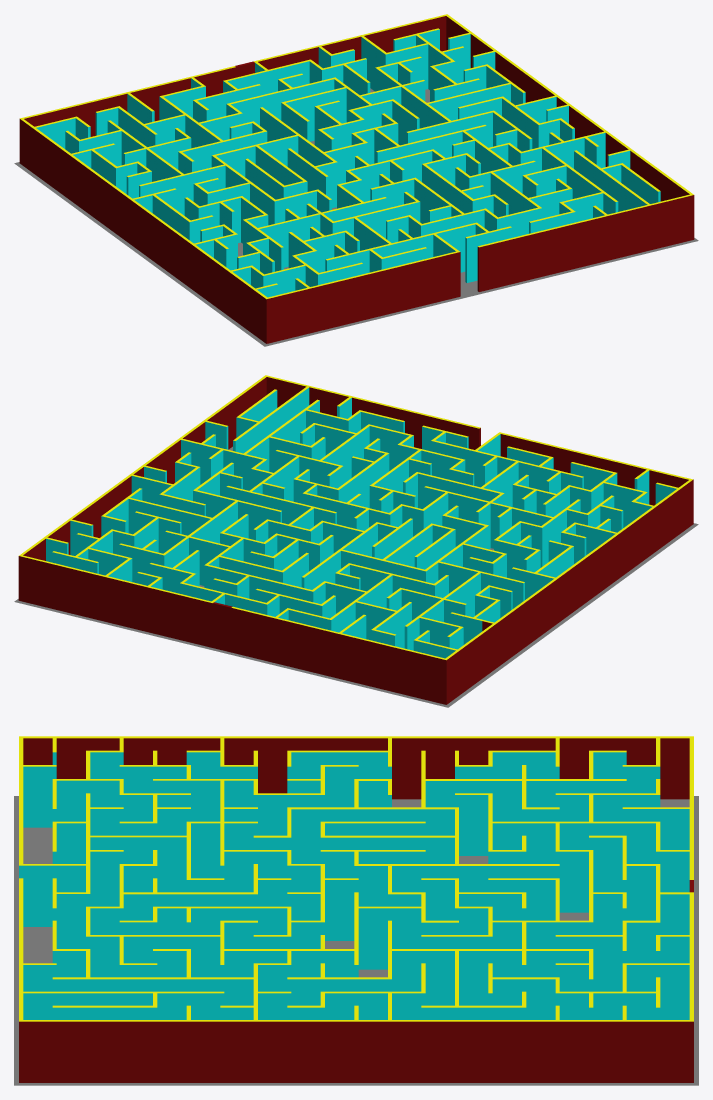
Rendered from Dungeon Textured Stage.fbx.
The picture shows the model from 3 angles, top to bottom: view 1: azimuth 30°, elevation 25°; view 2: azimuth 150°, elevation 25°; view 3: azimuth 270°, elevation 25°; orthographic projection. The views are drawn at different scales.
Parts seen in each view (by area): view 1: Dungeon (×4); view 2: Dungeon (×4); view 3: Dungeon (×4).
Part boxes in pixels (x1=…): Dungeon (×4): x1=14, y1=14, x2=698, y2=346; Dungeon (×4): x1=14, y1=375, x2=698, y2=707; Dungeon (×4): x1=14, y1=736, x2=698, y2=1085.
Bounding box in the file's own units: 53.21 × 5.31 × 53.21.
